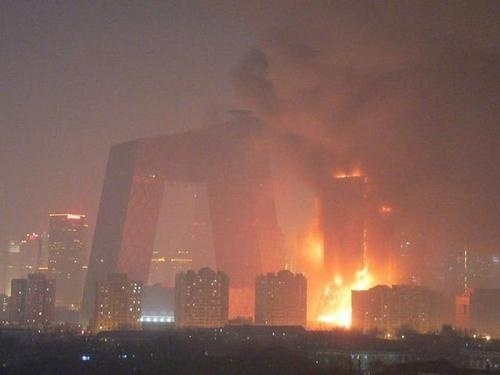fire: (316, 266, 373, 330), (302, 227, 325, 264), (334, 165, 365, 179)
